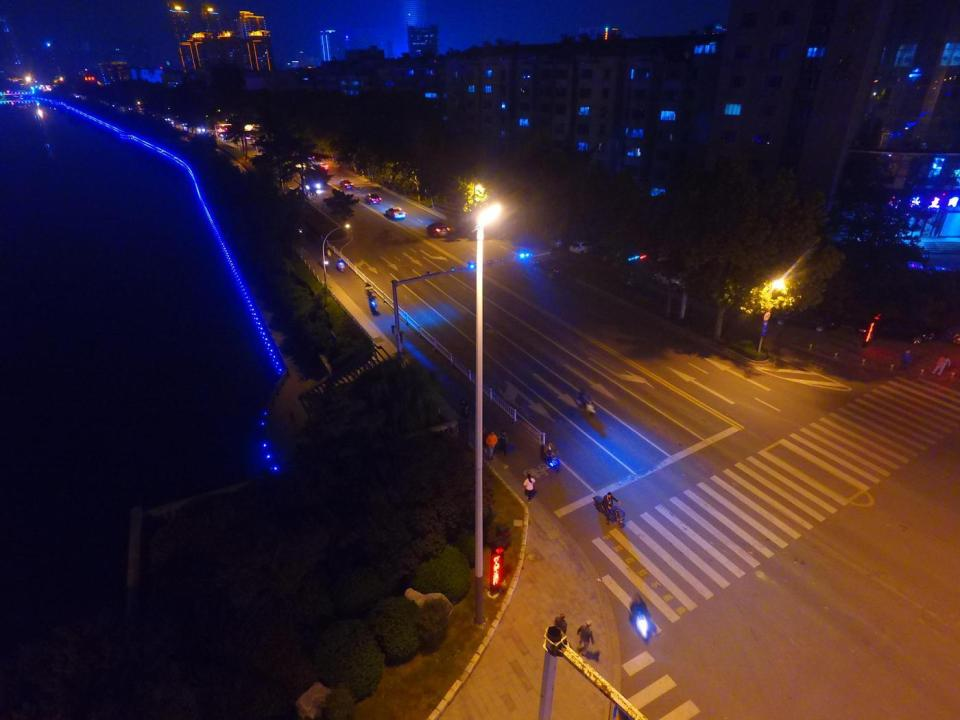car: (769, 292, 841, 332), (855, 312, 935, 342), (651, 268, 694, 293), (532, 259, 567, 280), (569, 239, 599, 255), (423, 220, 452, 236), (299, 173, 322, 191), (549, 234, 572, 248), (384, 207, 406, 220), (364, 193, 380, 205), (341, 180, 354, 191)
